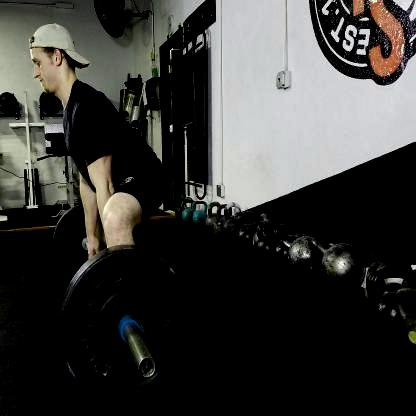Barbell: (138, 354, 158, 380)
